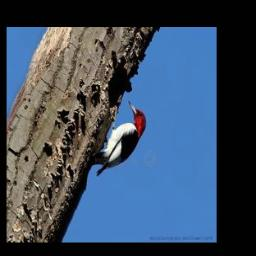Woodpecker: (85, 96, 153, 181)
